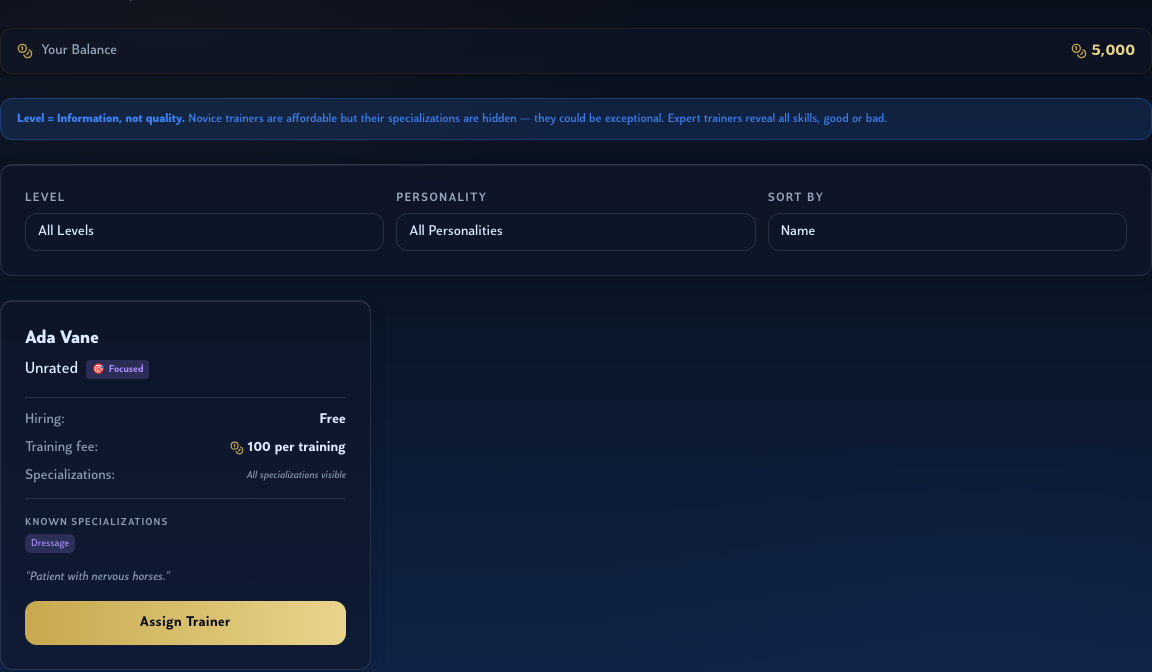
TrainerList — refusal codes (Equoria-dosig) › a short balance is named as a short balance, not as a full roster
The width and height of the screenshot is (1152, 672).
Step 1. Click the button with test id "hire-button-mk-1" → (185, 623), box [25,601,346,645]
(page scrolled)
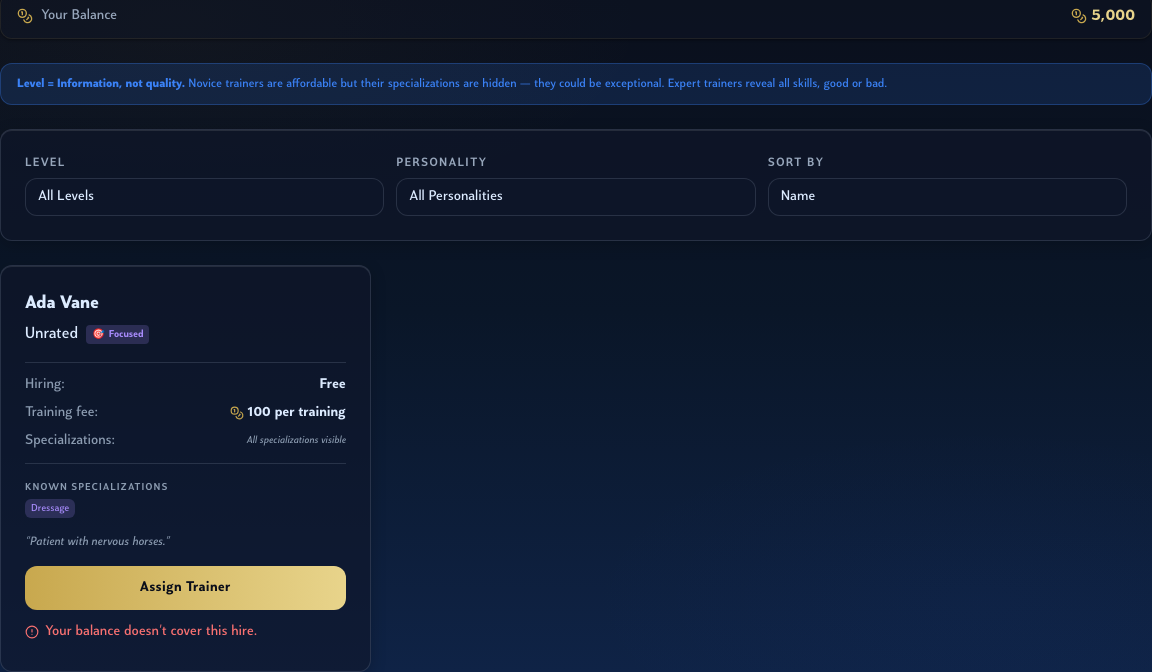
Expected: the message does not show "roster", [25,622,257,642]
Expected: the message shows "balance", [45,624,257,639]
